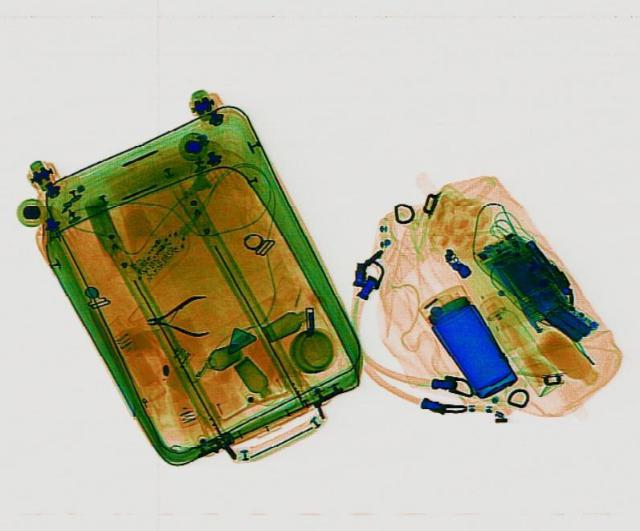Pliers: (144, 293, 210, 336)
